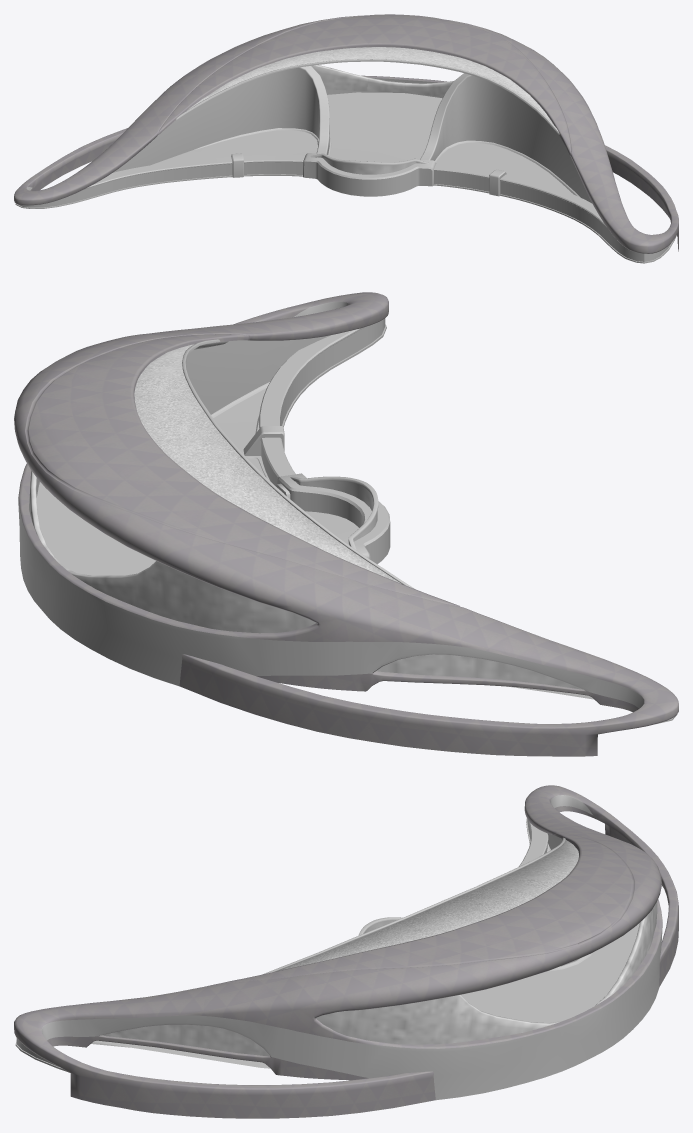
File: pref_sm_beach_techpagoda01_lv3.fbx
3 views of the same model, one above another, from view 1: azimuth 30°, elevation 25°; view 2: azimuth 150°, elevation 25°; view 3: azimuth 270°, elevation 25° (orthographic). The views are drawn at different scales.
Parts seen in each view (by area): view 1: sm_beach_techpagoda01_d_lv3, sm_beach_techpagoda01_e_lv3, sm_beach_techpagoda01_b_lv3, sm_beach_techpagoda01_c_lv3, sm_beach_techpagoda01_a_lv3; view 2: sm_beach_techpagoda01_c_lv3, sm_beach_techpagoda01_d_lv3, sm_beach_techpagoda01_a_lv3, sm_beach_techpagoda01_e_lv3, sm_beach_techpagoda01_b_lv3; view 3: sm_beach_techpagoda01_b_lv3, sm_beach_techpagoda01_d_lv3, sm_beach_techpagoda01_a_lv3, sm_beach_techpagoda01_c_lv3, sm_beach_techpagoda01_e_lv3.
Part boxes in pixels (box(x1,y1,x2,y2)): sm_beach_techpagoda01_d_lv3: box(151, 59, 676, 263); sm_beach_techpagoda01_e_lv3: box(15, 59, 406, 208); sm_beach_techpagoda01_b_lv3: box(404, 16, 678, 253); sm_beach_techpagoda01_c_lv3: box(14, 14, 420, 205); sm_beach_techpagoda01_a_lv3: box(187, 47, 553, 174); sm_beach_techpagoda01_c_lv3: box(29, 431, 678, 756); sm_beach_techpagoda01_d_lv3: box(18, 301, 390, 609); sm_beach_techpagoda01_a_lv3: box(29, 341, 582, 689); sm_beach_techpagoda01_e_lv3: box(42, 425, 677, 724); sm_beach_techpagoda01_b_lv3: box(14, 292, 388, 545); sm_beach_techpagoda01_b_lv3: box(14, 911, 580, 1118); sm_beach_techpagoda01_d_lv3: box(15, 847, 639, 1100); sm_beach_techpagoda01_a_lv3: box(102, 840, 657, 1056); sm_beach_techpagoda01_c_lv3: box(507, 785, 678, 1020); sm_beach_techpagoda01_e_lv3: box(474, 795, 662, 1058).
Size of the model in its own units: 48.73 by 9.83 by 45.2.
